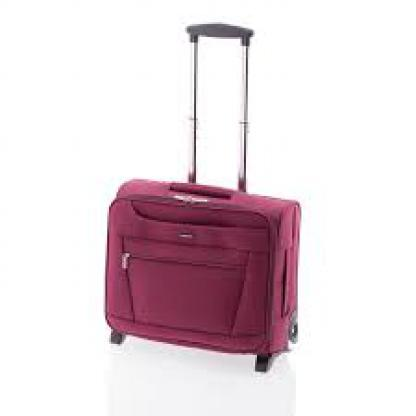maleta: (87, 170, 329, 385)
